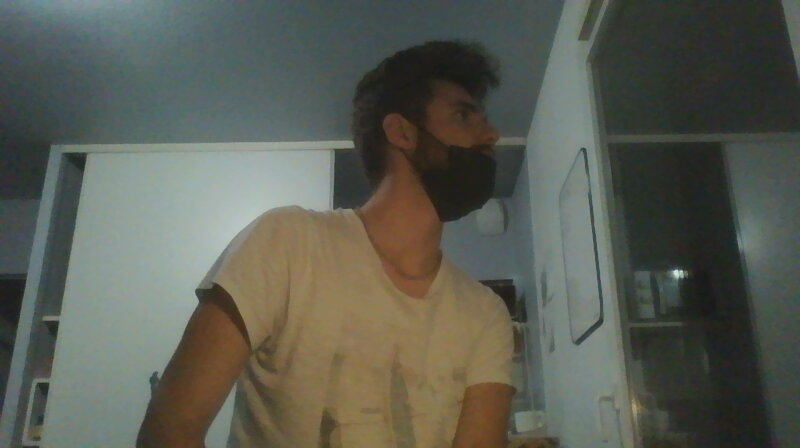with_incorrect_mask: (383, 70, 514, 220)
